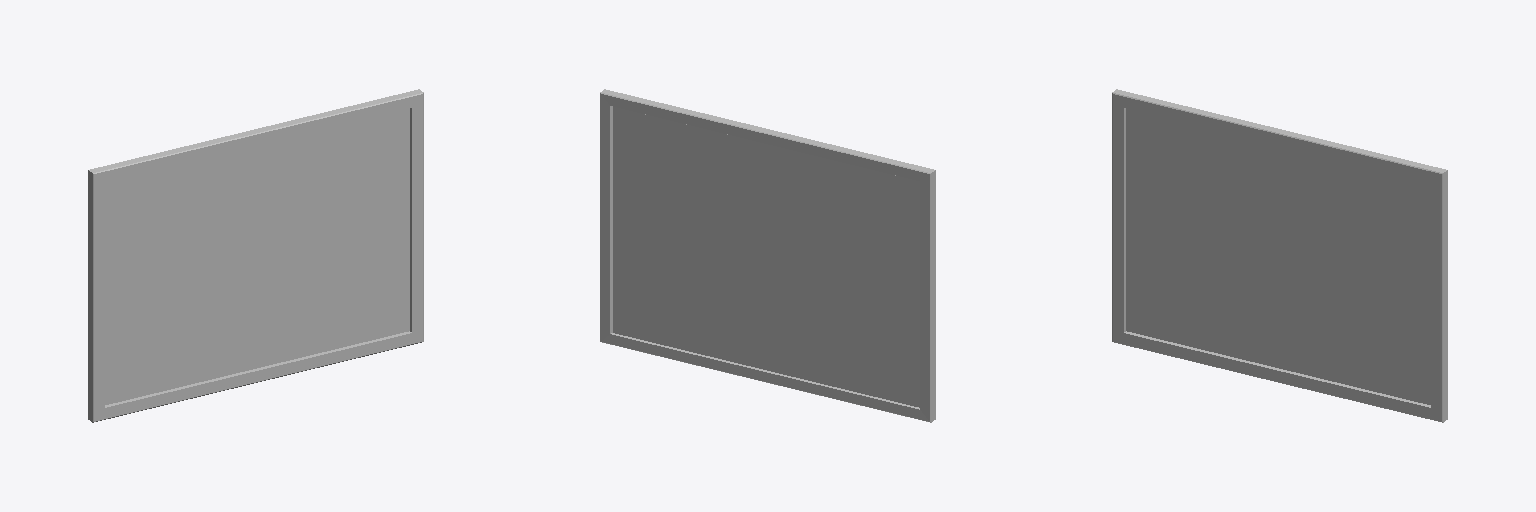
Rendered from B1_Landscape.obj.
3 views of the same model, side by side, from view 1: azimuth 30°, elevation 25°; view 2: azimuth 150°, elevation 25°; view 3: azimuth 330°, elevation 25° (orthographic).
Visible parts, largest first — view 1: B1_Landscape.obj; view 2: B1_Landscape.obj; view 3: B1_Landscape.obj.
Part boxes in pixels (left/top/right/bottom): B1_Landscape.obj: left=88, top=89, right=423, bottom=422; B1_Landscape.obj: left=600, top=89, right=935, bottom=422; B1_Landscape.obj: left=1112, top=89, right=1447, bottom=422.
Bounding box in the file's own units: 1.08 × 0.7758 × 0.0298.